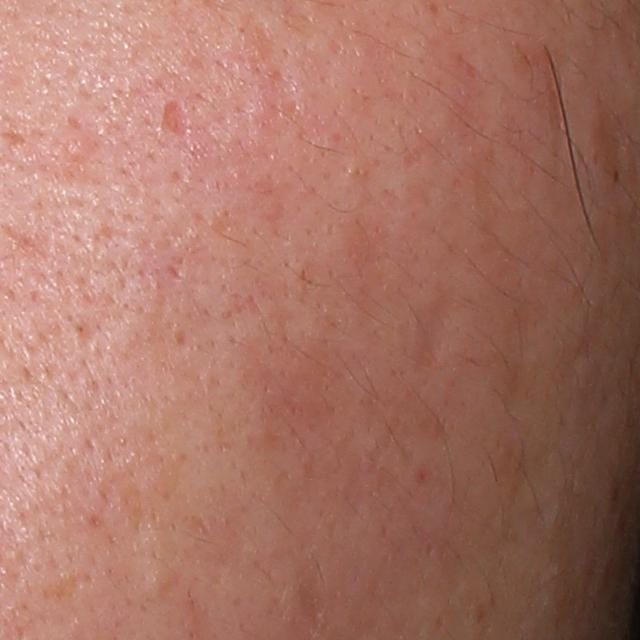atrophic_scar: (412, 289, 453, 377), (158, 97, 190, 143)
comedo: (141, 563, 176, 596)
